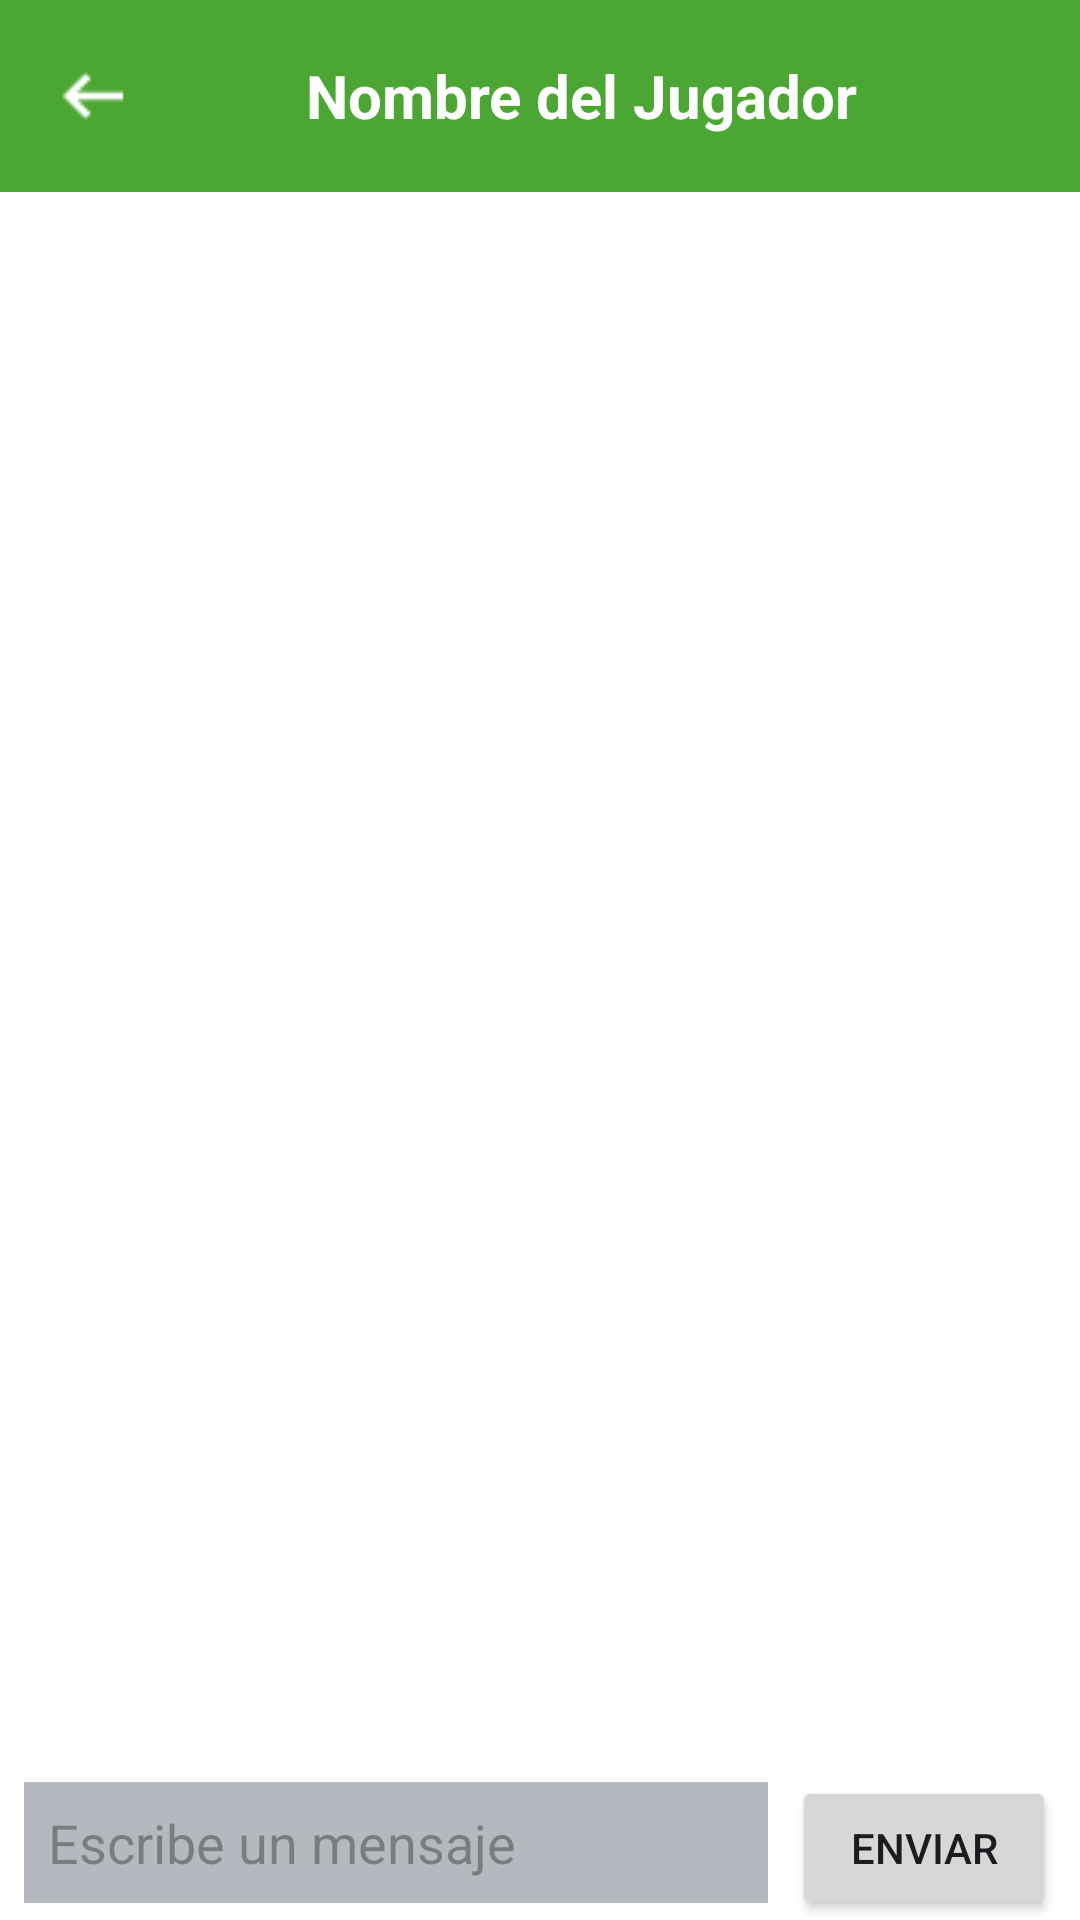

Icon bounding boxes for this 1080 x 1920 phone screenshot, format [left=x1, top=y1, right=x2, bottom=y2]:
short left: [left=62, top=72, right=124, bottom=120]
